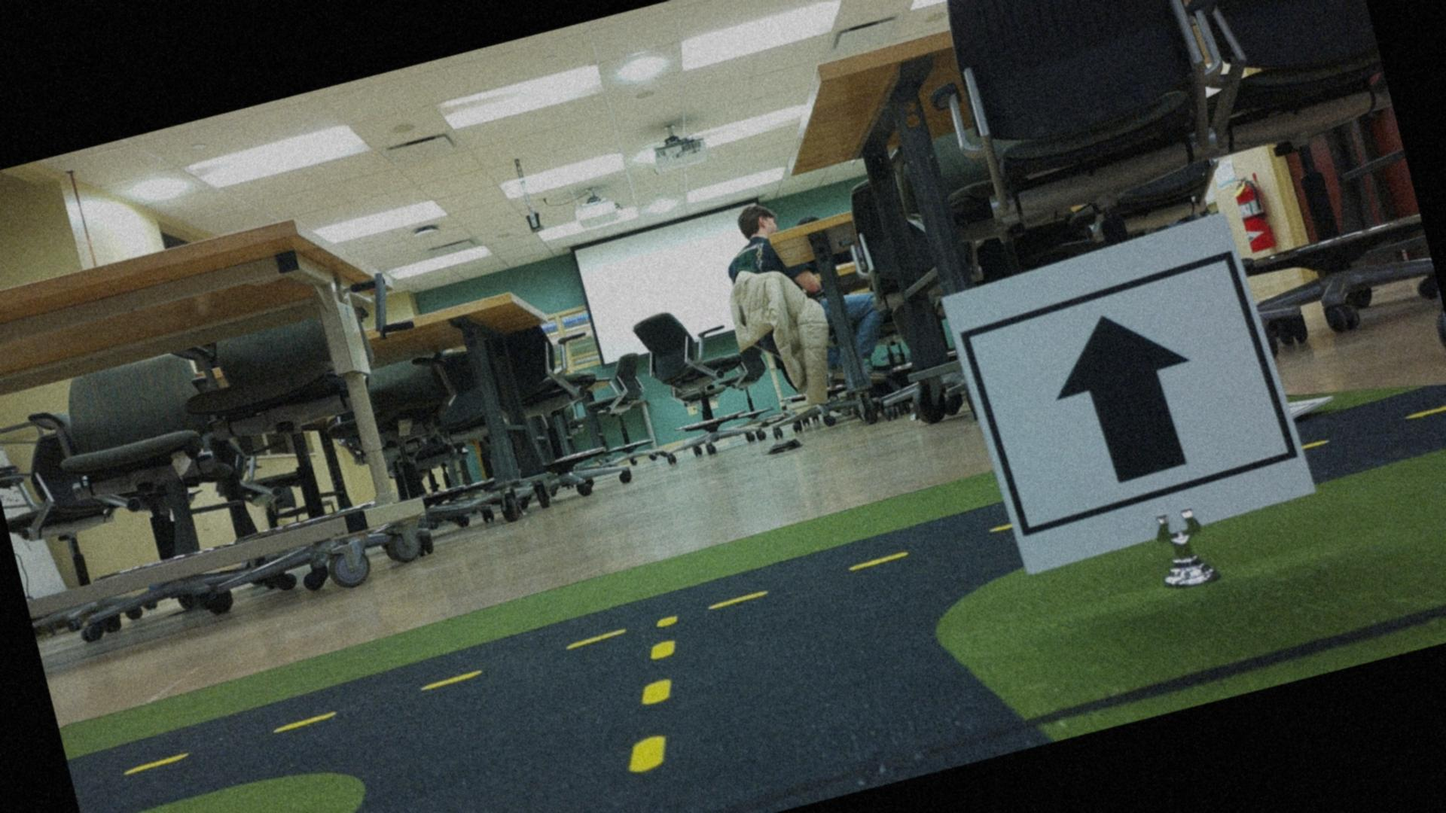gostraight: (954, 222, 1296, 563)
yellowline: (124, 521, 1012, 772), (569, 614, 728, 812)
